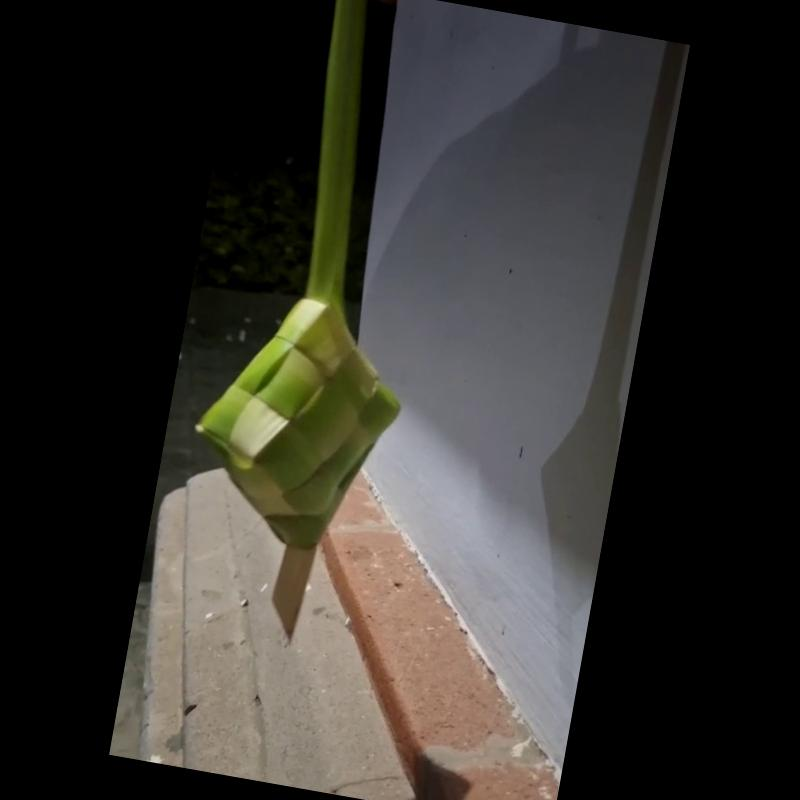Tipat Nasi: (187, 291, 409, 632)
